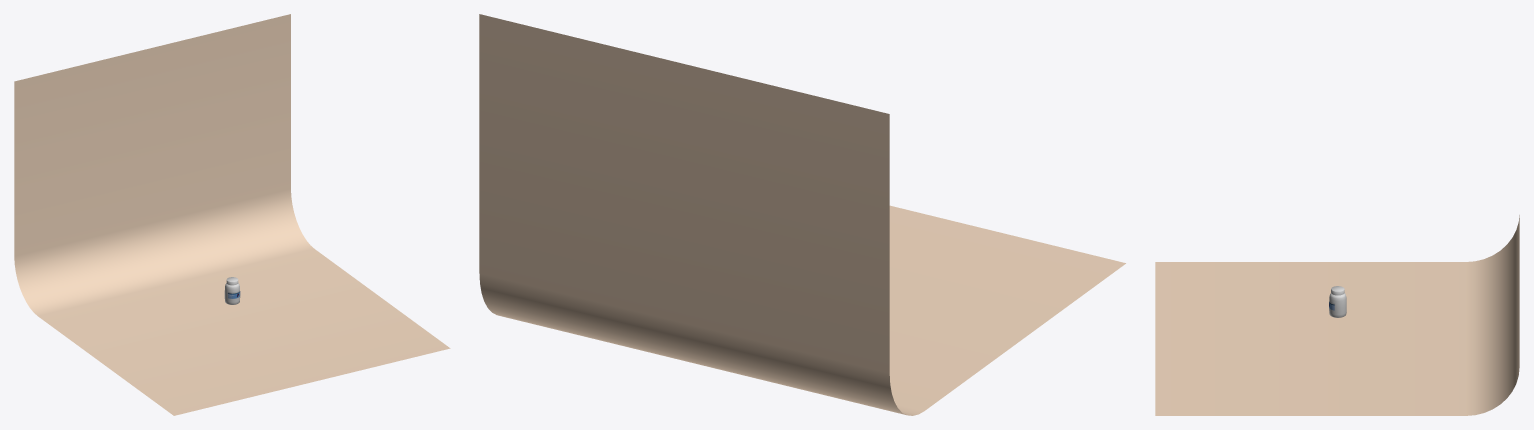
The model's file is bottle2.gltf.
The picture shows the model from 3 angles, left to right: view 1: azimuth 30°, elevation 25°; view 2: azimuth 150°, elevation 25°; view 3: azimuth 270°, elevation 25°; orthographic projection. The views are drawn at different scales.
Parts seen in each view (by area): view 1: Background; view 2: Background; view 3: Background, Cylinder_Common Pill Bottle_0_002.
Boxes of the visible parts, box(x1,y1,x2,y2) form: Background: box(14, 14, 450, 415); Background: box(479, 14, 1125, 415); Background: box(1155, 215, 1519, 415); Cylinder_Common Pill Bottle_0_002: box(1329, 293, 1346, 317).
Bounding box in the file's own units: 200 × 150 × 200.
Materials: 3 (2 with a texture image).
